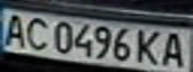0: (48, 19, 75, 55)
4: (69, 20, 93, 57)
6: (112, 25, 136, 63)
9: (90, 22, 115, 61)
A: (160, 29, 190, 69), (0, 11, 30, 47)
C: (21, 16, 51, 51)
K: (133, 27, 166, 66)
